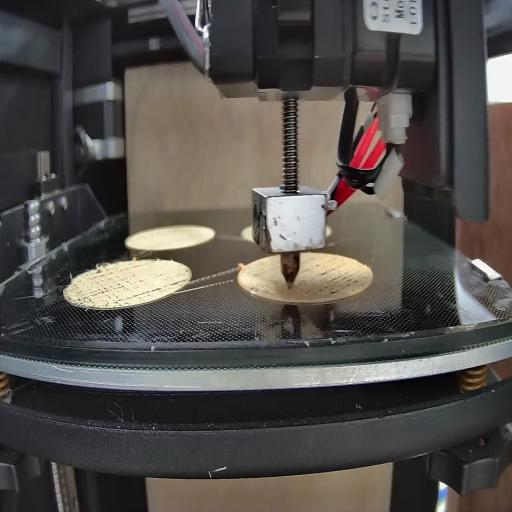under_extrusion: (67, 266, 165, 302), (299, 258, 368, 298), (169, 271, 188, 292)
